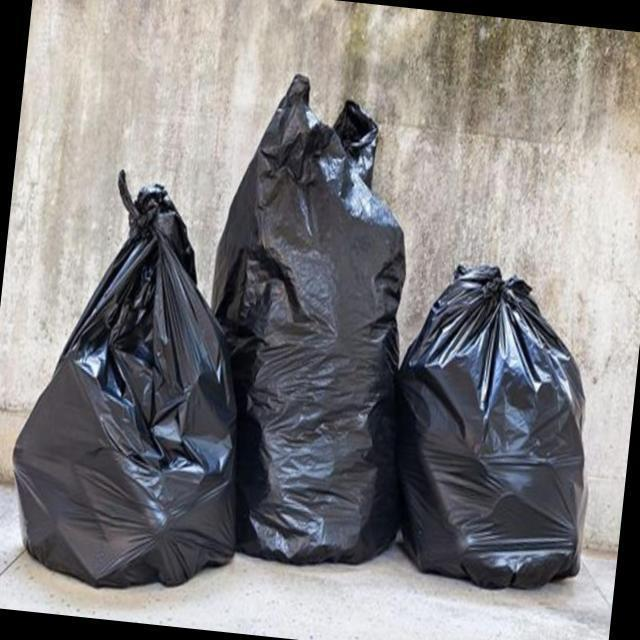Garbage_Bag: (3, 164, 276, 601), (370, 249, 616, 603)
